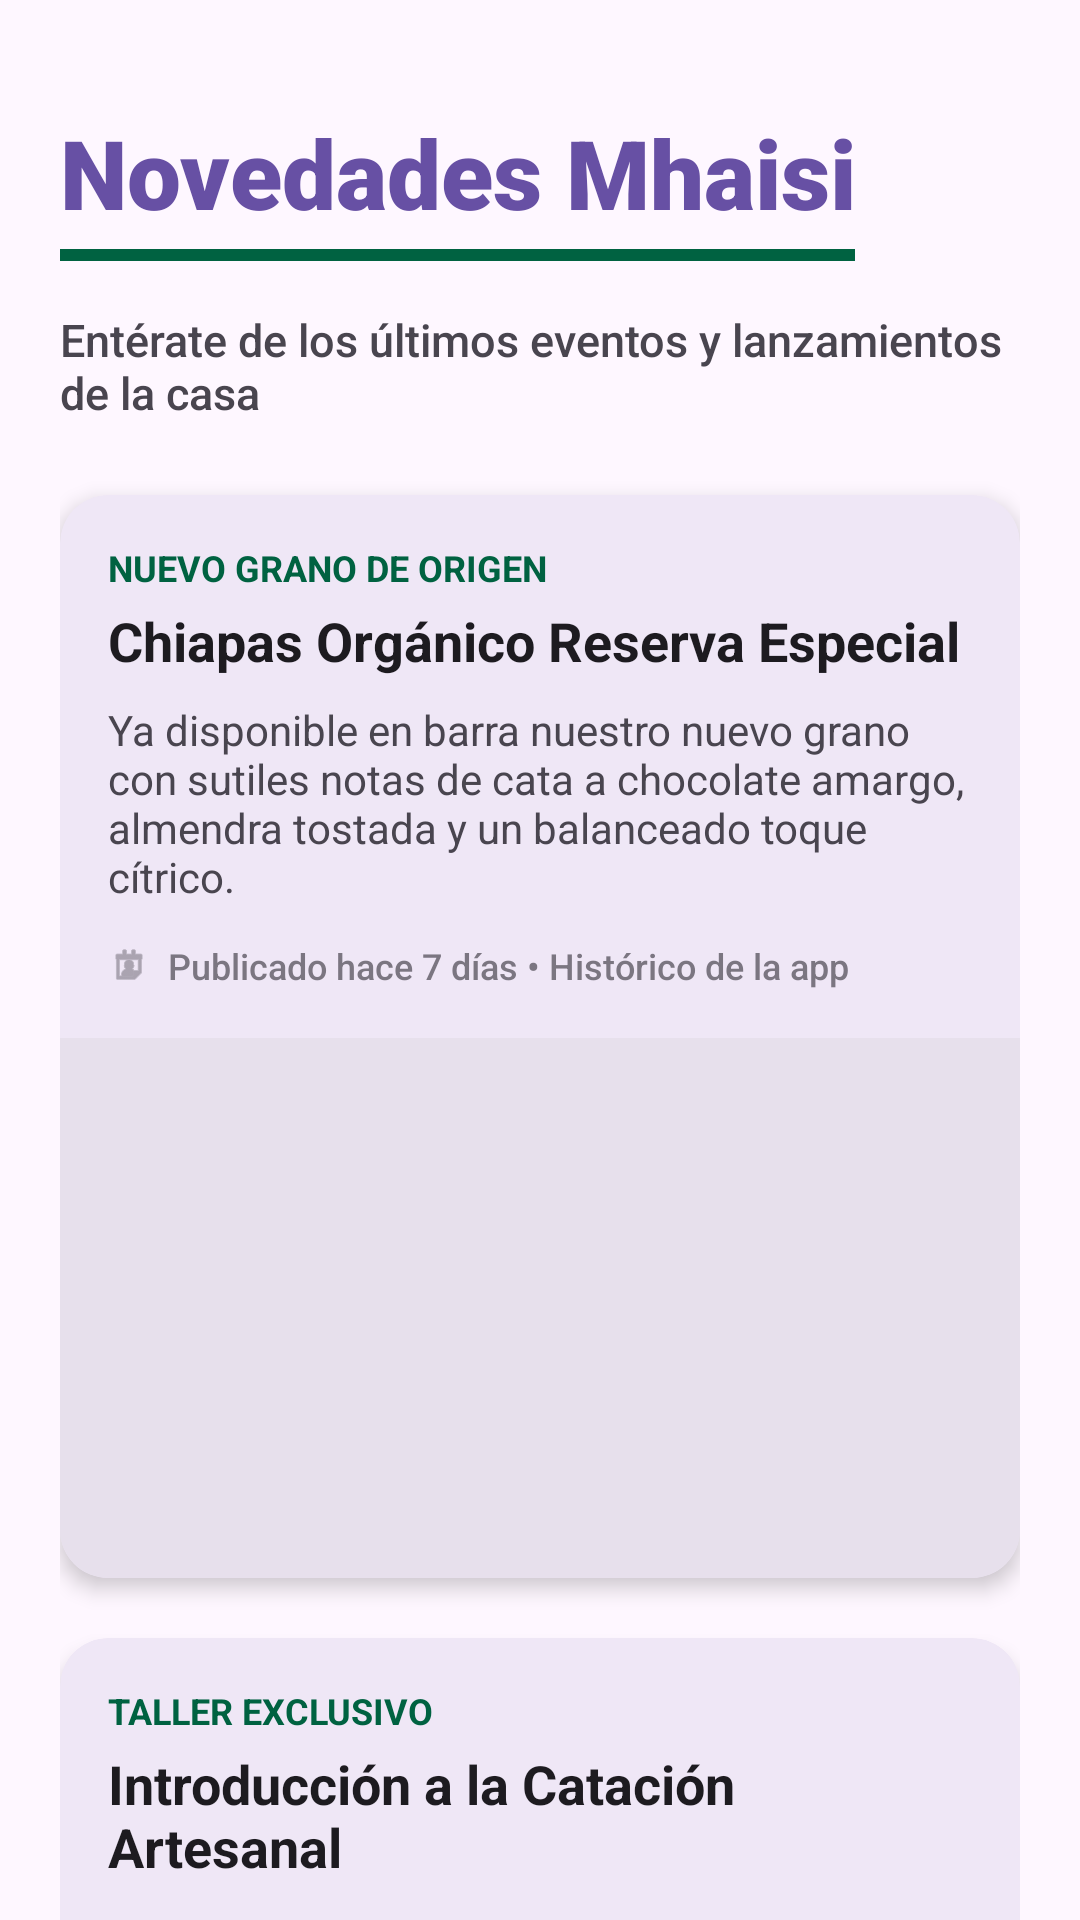

Locate icon controls on the screen. Image size 1080w x 1920h, boxes as (x1, y1, x2, y2).
calendar: (115, 949, 143, 980)
